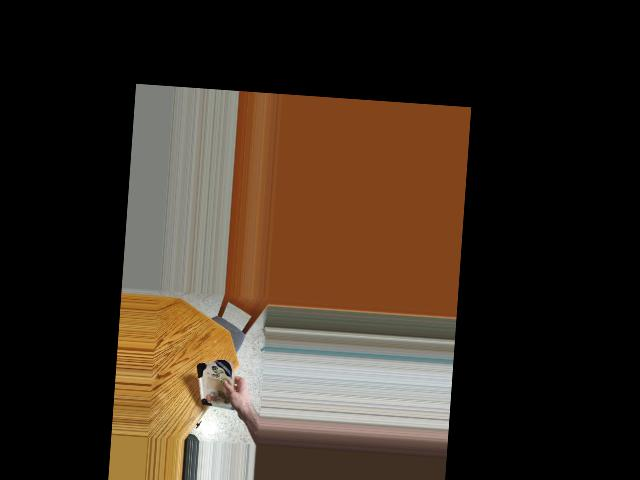cheese: (197, 355, 236, 416)
